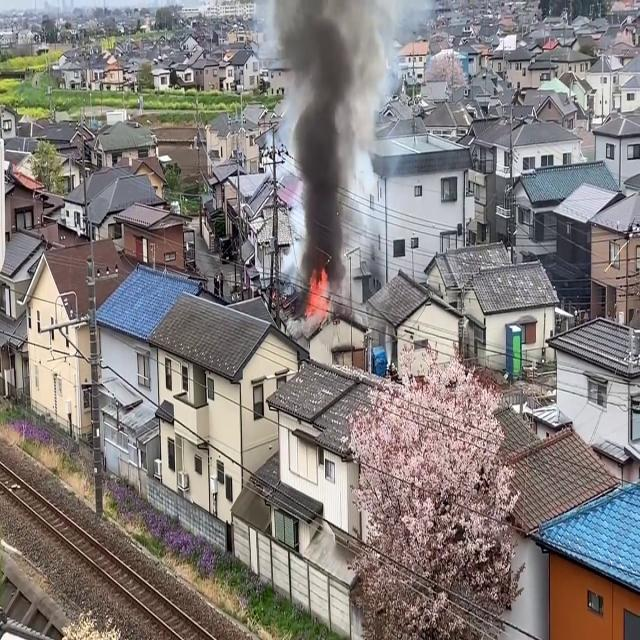Fire: (304, 264, 332, 323)
Smoke: (278, 1, 386, 287)
